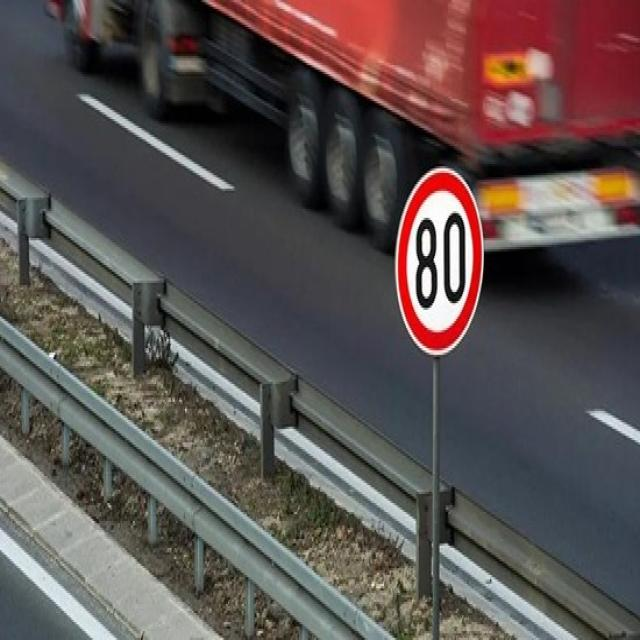speed limit 80: (395, 170, 485, 357)
